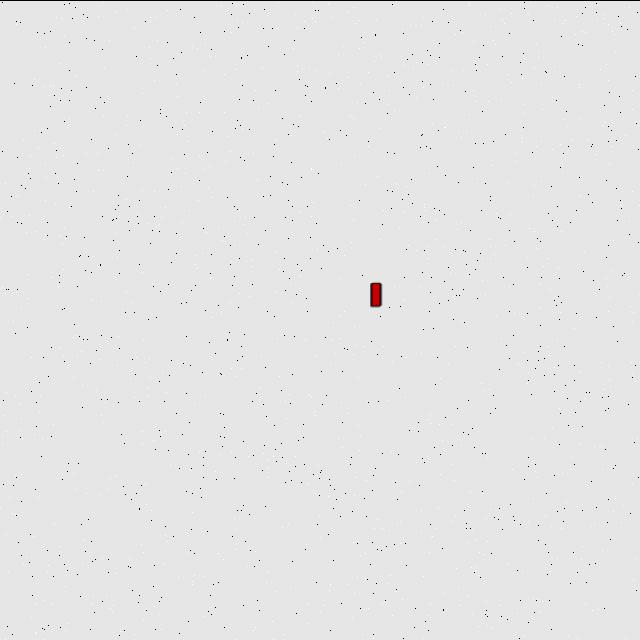3070b: (368, 276, 386, 310)
